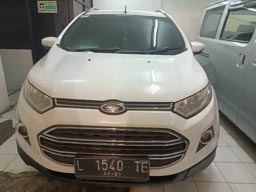plat: (75, 159, 149, 172)
